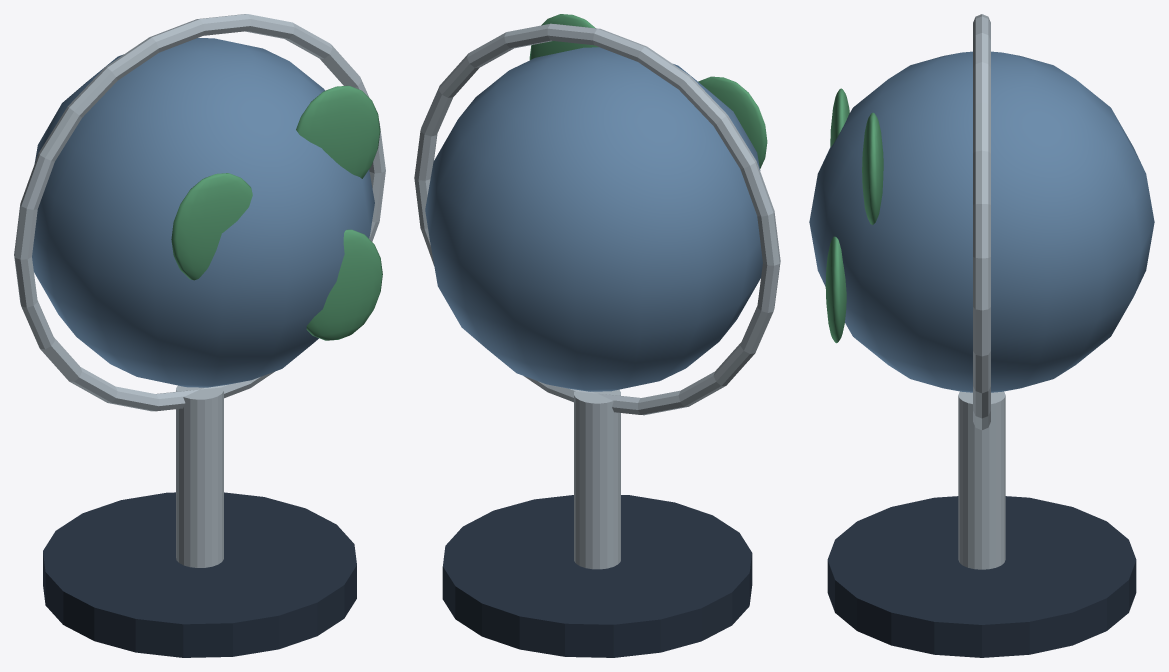
Rendered from school_05.glb.
3 views of the same model, side by side, from view 1: azimuth 30°, elevation 25°; view 2: azimuth 150°, elevation 25°; view 3: azimuth 270°, elevation 25° (orthographic). The views are drawn at different scales.
Parts seen in each view (by area): view 1: Ocean, GlobeFoot, AxisRing, Continent (×3), GlobeStem; view 2: Ocean, GlobeFoot, AxisRing, GlobeStem, Continent (×2); view 3: Ocean, GlobeFoot, GlobeStem, AxisRing, Continent (×3).
Boxes of the visible parts, <box> form: Ocean: <box>32,38,374,387</box>; GlobeFoot: <box>43,492,356,657</box>; AxisRing: <box>14,14,385,411</box>; Continent (×3): <box>171,85,382,340</box>; GlobeStem: <box>176,385,223,567</box>; Ocean: <box>425,47,762,391</box>; GlobeFoot: <box>442,495,752,657</box>; AxisRing: <box>414,23,780,415</box>; GlobeStem: <box>574,389,620,569</box>; Continent (×2): <box>529,14,767,168</box>; Ocean: <box>809,51,1154,392</box>; GlobeFoot: <box>827,496,1136,657</box>; GlobeStem: <box>958,391,1005,569</box>; AxisRing: <box>973,14,990,429</box>; Continent (×3): <box>825,88,883,343</box>.
Bounding box in the file's own units: 0.46 × 0.68 × 0.38.
